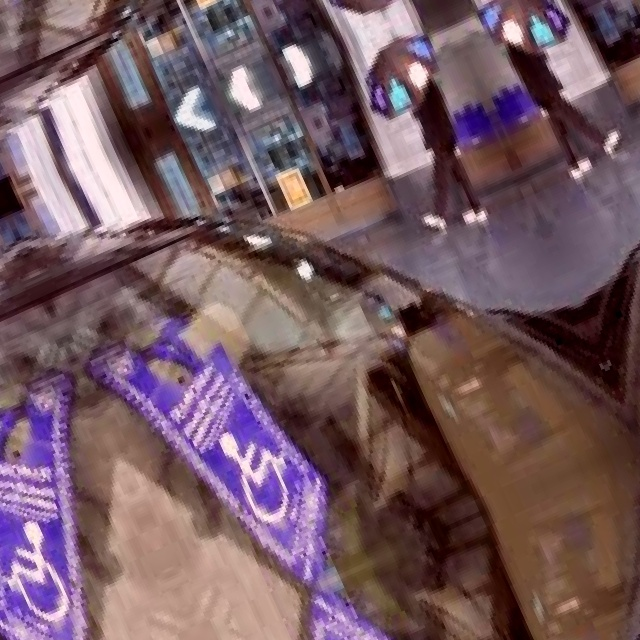ISA: (213, 412, 307, 530), (0, 514, 78, 633)
